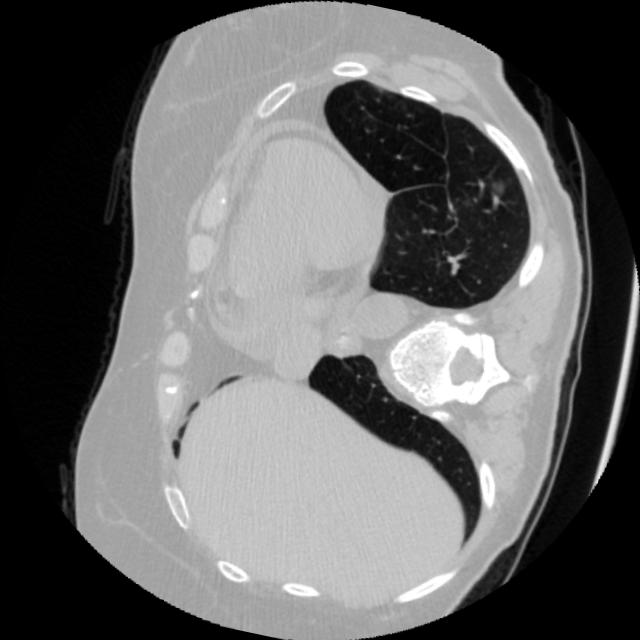nodule: (481, 170, 514, 203)
